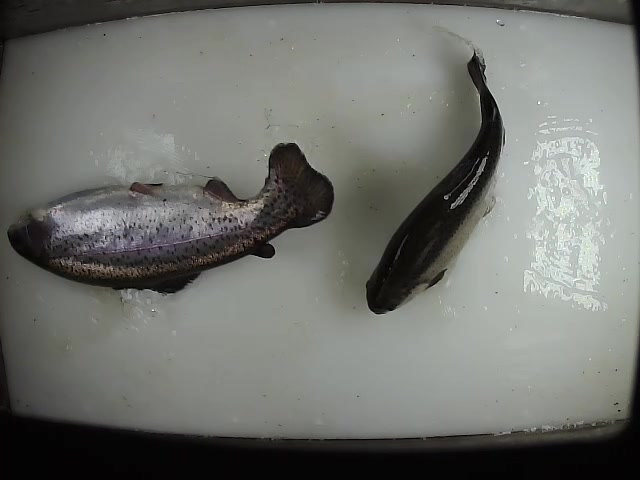fish: (1, 139, 335, 297), (364, 46, 525, 317)
